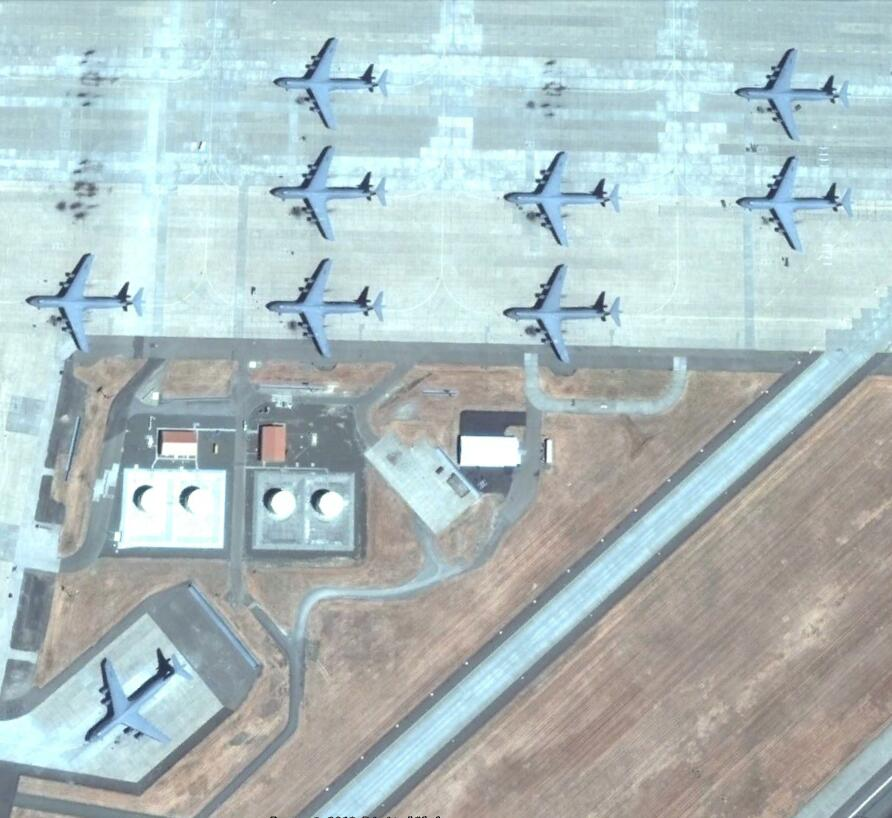A4: (25, 252, 147, 356), (505, 149, 625, 251), (505, 266, 624, 366), (270, 260, 386, 361), (270, 145, 390, 241), (737, 156, 854, 253), (737, 49, 853, 142), (276, 37, 391, 129), (89, 655, 191, 745)
